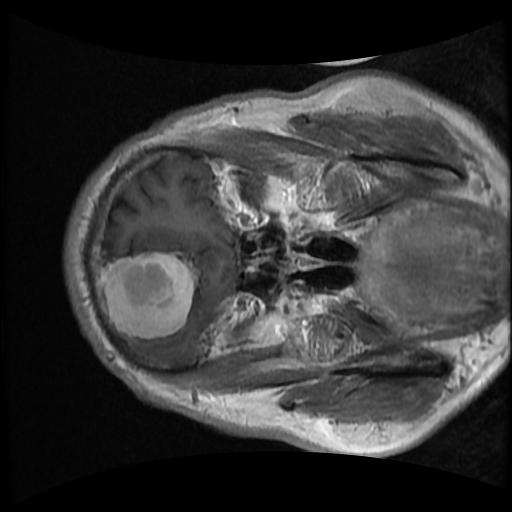meningioma: (98, 251, 194, 340)
